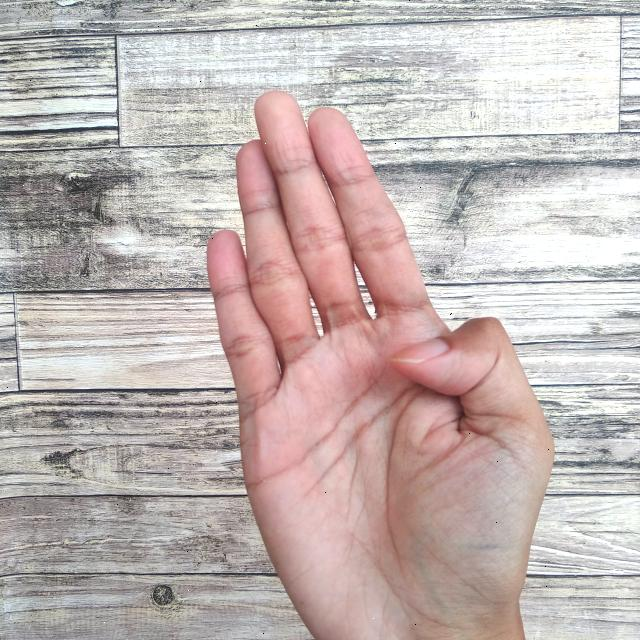B: (205, 83, 565, 640)
